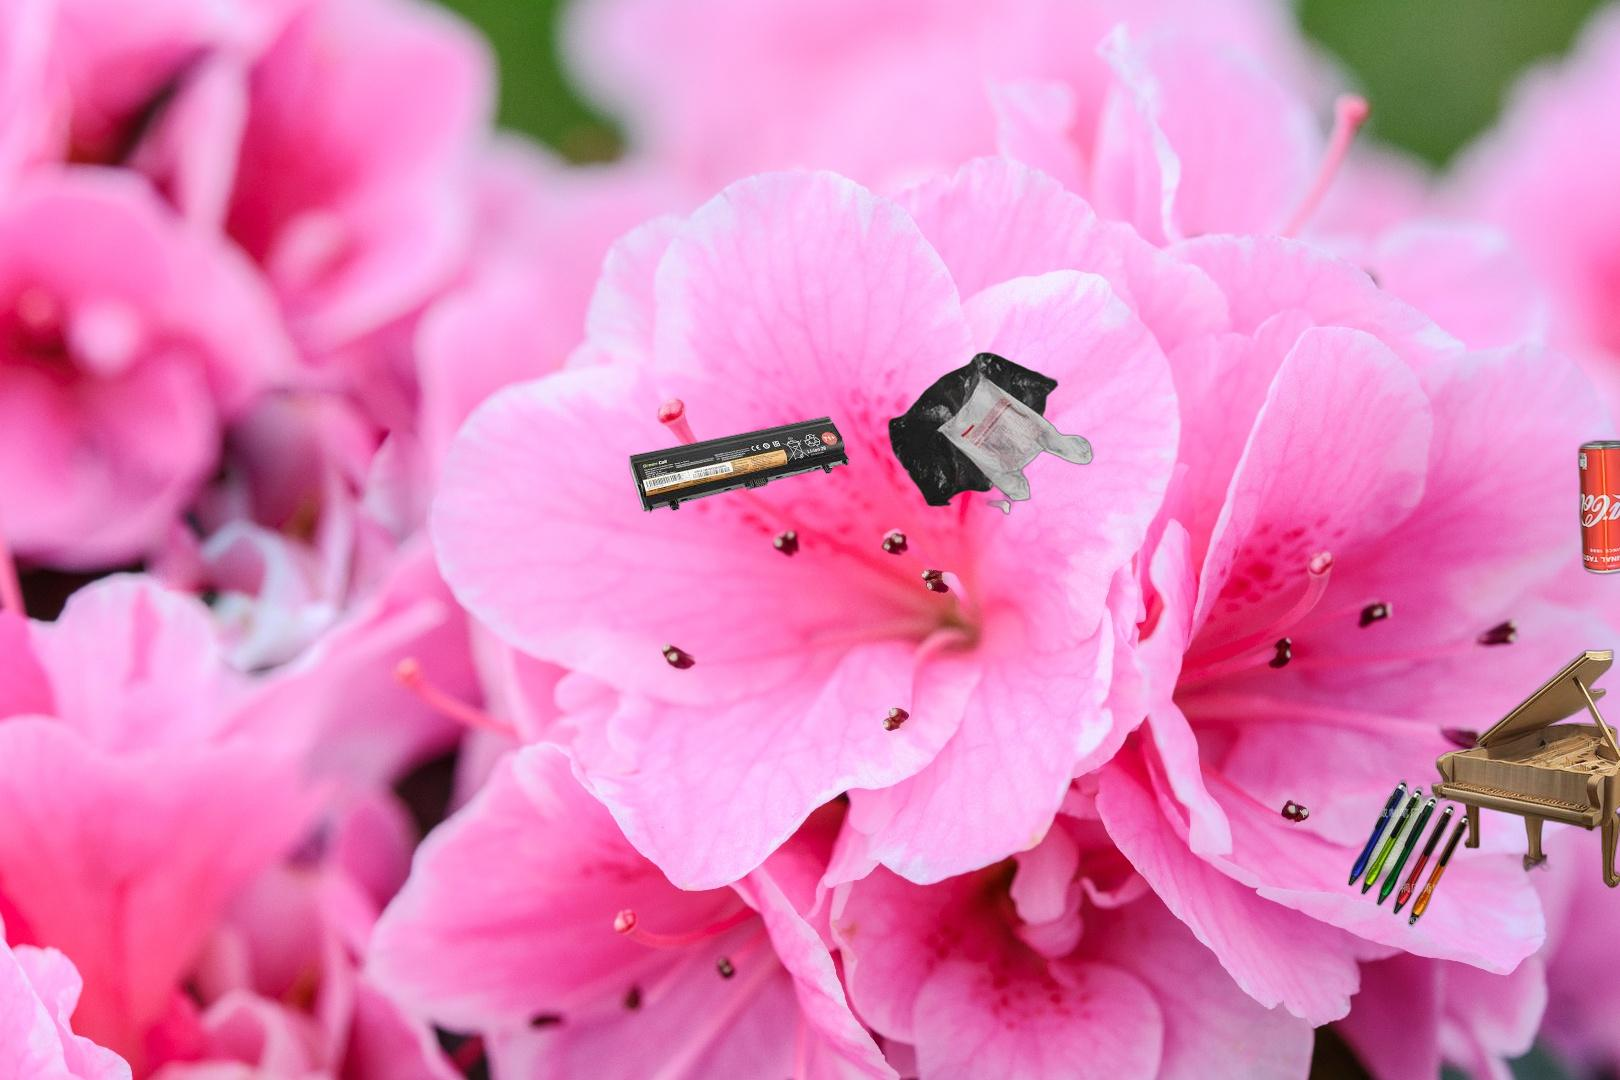battery: (628, 413, 852, 516)
metal-cans: (1574, 434, 1620, 580)
penholder: (1345, 779, 1479, 929)
plastic-bag: (885, 351, 1102, 517)
trashbox-cardboard: (1424, 648, 1620, 891)
